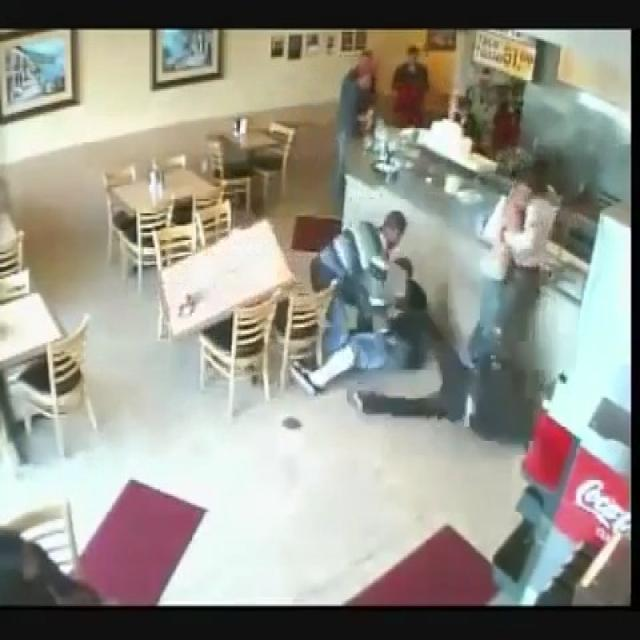fight: (288, 208, 436, 396), (457, 157, 560, 410)
